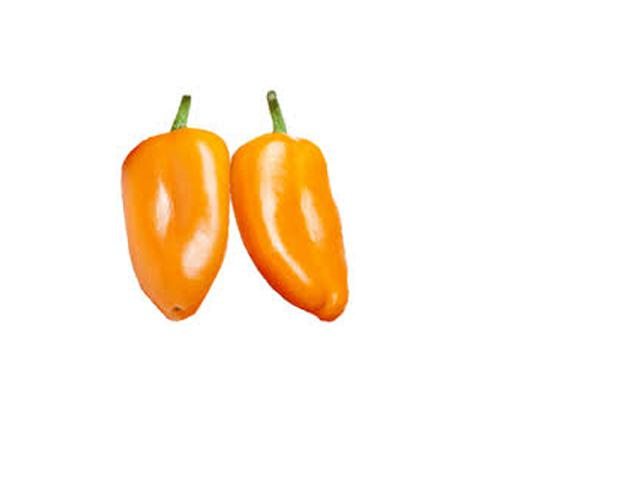bell_pepper: (96, 89, 234, 366)
